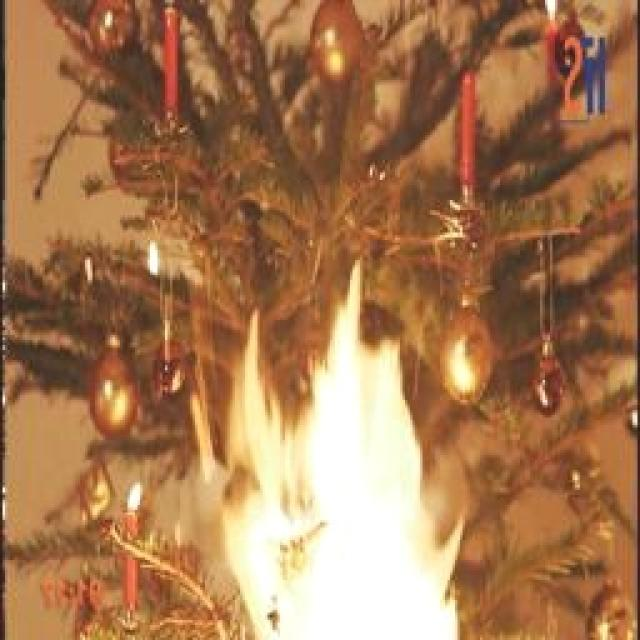fire: (186, 265, 456, 640)
